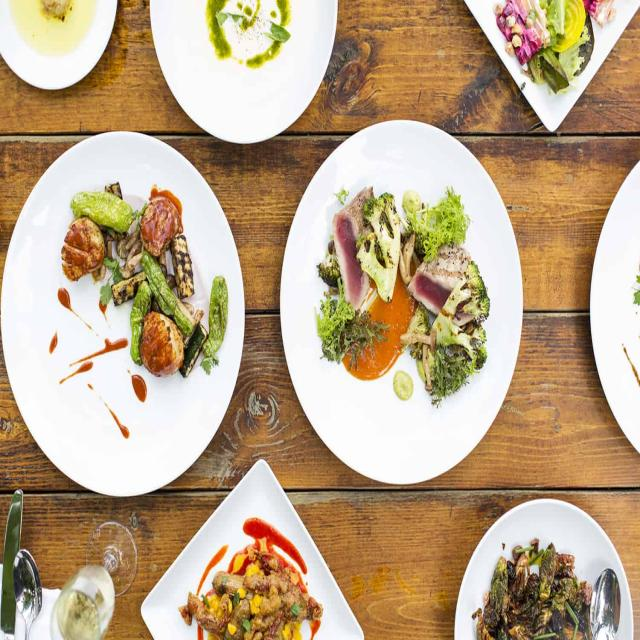ca ngu xong khoi: (300, 114, 526, 458)
